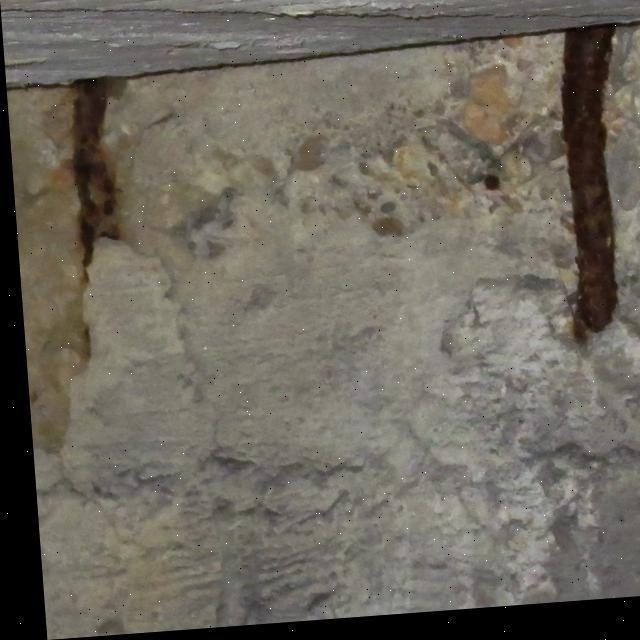D0w0: (558, 26, 637, 361)
